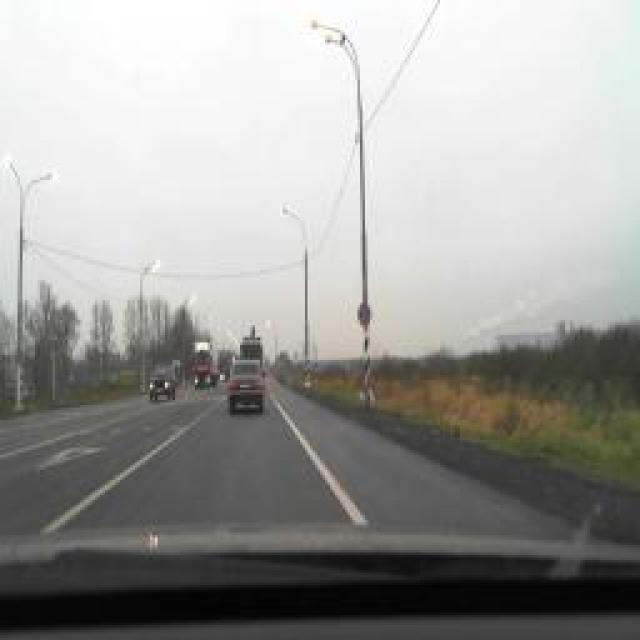sign: (358, 302, 372, 326)
